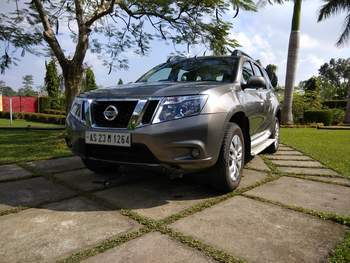number_plate: (82, 127, 134, 151)
